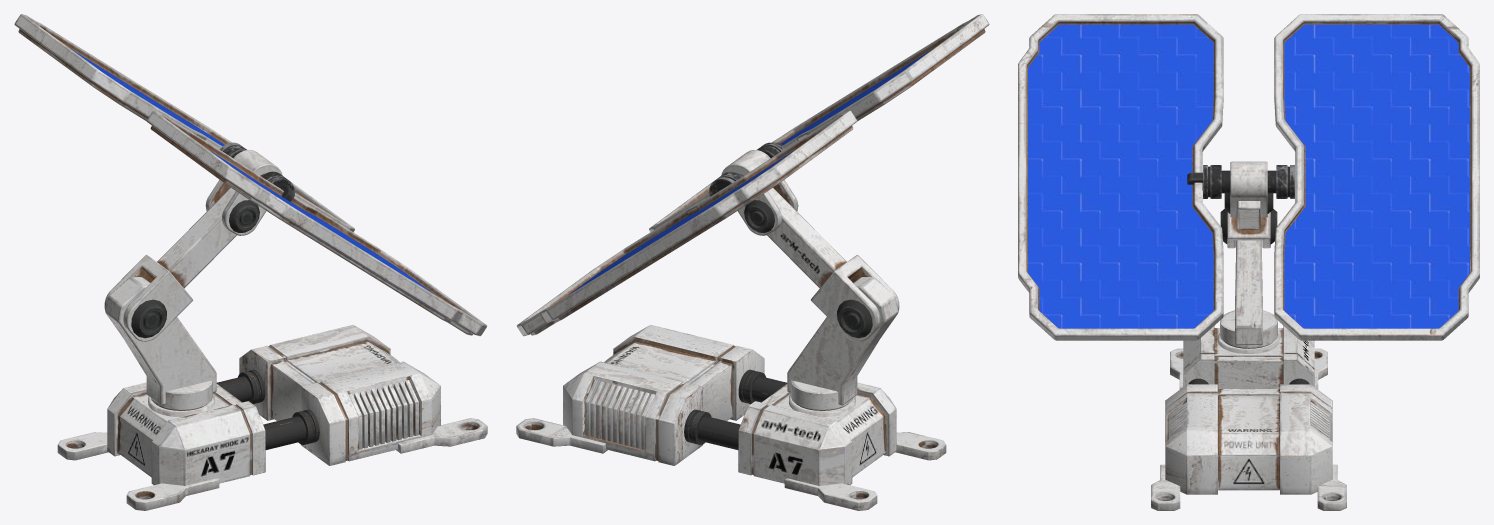
Rendered from panneau-solaire-deployable.glb.
3 renders of one model, left to right at view 1: azimuth 30°, elevation 25°; view 2: azimuth 150°, elevation 25°; view 3: azimuth 270°, elevation 25°, orthographic. The views are drawn at different scales.
Parts seen in each view (by area): view 1: Solar Panel Base_15, Front Unit_4, Back Base Support_0, Top Arm_11, Base Arm_8, Side Vents_6, Back Bottom base support_2, Power redirect_1, Solar Mirrors_16, Frot Base Support_5, Panel Rotar Parent_12, Base Rotar_7 (+3 smaller); view 2: Solar Panel Base_15, Front Unit_4, Back Base Support_0, Top Arm_11, Base Arm_8, Side Vents_6, Back Bottom base support_2, Power redirect_1, Solar Mirrors_16, Frot Base Support_5, Panel Rotar Parent_12, Base Rotar_7 (+3 smaller); view 3: Solar Mirrors_16, Solar Panel Base_15, Front Unit_4, Back Base Support_0, Base Arm_8, Frot Base Support_5, Panel Rotar Parent_12, Panel Rotar_14, Top Arm_11, Base Rotar_7, Side Vents_6, Back Bottom base support_2.
Boxes of the visible parts, <box> form: Solar Panel Base_15: <box>14,14,486,336</box>; Front Unit_4: <box>239,325,440,465</box>; Back Base Support_0: <box>107,382,265,485</box>; Top Arm_11: <box>104,188,236,341</box>; Base Arm_8: <box>105,277,216,405</box>; Side Vents_6: <box>349,380,418,449</box>; Back Bottom base support_2: <box>57,432,219,510</box>; Power redirect_1: <box>216,369,319,449</box>; Solar Mirrors_16: <box>71,49,434,294</box>; Frot Base Support_5: <box>391,355,487,453</box>; Panel Rotar Parent_12: <box>205,150,282,235</box>; Base Rotar_7: <box>151,380,212,410</box>; Solar Panel Base_15: <box>517,14,989,336</box>; Front Unit_4: <box>563,325,764,465</box>; Back Base Support_0: <box>738,382,896,485</box>; Top Arm_11: <box>767,188,899,341</box>; Base Arm_8: <box>787,277,898,405</box>; Side Vents_6: <box>585,380,654,449</box>; Back Bottom base support_2: <box>784,432,946,510</box>; Power redirect_1: <box>684,369,787,449</box>; Solar Mirrors_16: <box>569,49,932,294</box>; Frot Base Support_5: <box>516,355,612,453</box>; Panel Rotar Parent_12: <box>721,150,798,235</box>; Base Rotar_7: <box>791,380,852,410</box>; Solar Mirrors_16: <box>1028,24,1469,328</box>; Solar Panel Base_15: <box>1018,14,1479,340</box>; Front Unit_4: <box>1165,384,1332,494</box>; Back Base Support_0: <box>1183,326,1314,388</box>; Base Arm_8: <box>1235,240,1262,344</box>; Frot Base Support_5: <box>1151,464,1346,510</box>; Panel Rotar Parent_12: <box>1230,161,1267,217</box>; Panel Rotar_14: <box>1203,165,1294,198</box>; Top Arm_11: <box>1227,201,1270,248</box>; Base Rotar_7: <box>1220,310,1277,348</box>; Side Vents_6: <box>1168,402,1329,439</box>; Back Bottom base support_2: <box>1170,348,1327,389</box>.
Bounding box in the file's own units: 7.05 × 7.56 × 8.9.
Materials: 7 (7 with a texture image).
